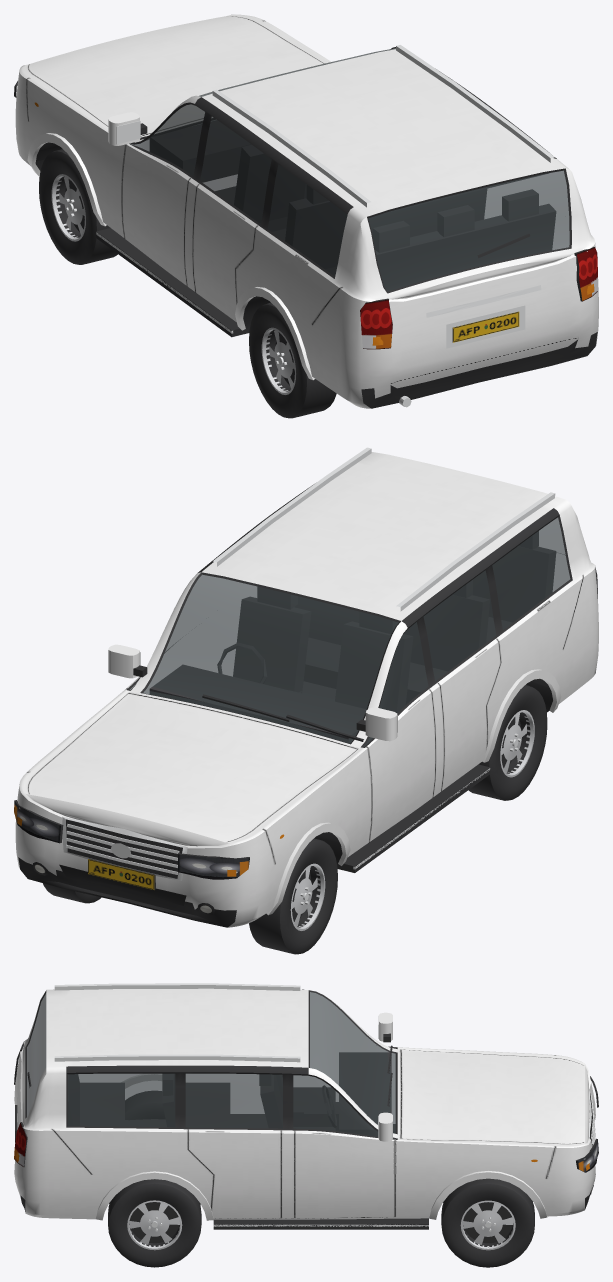
File: suv_landcruiser.glb
3 views of the same model, one above another, from view 1: azimuth 30°, elevation 25°; view 2: azimuth 150°, elevation 25°; view 3: azimuth 270°, elevation 25° (orthographic). The views are drawn at different scales.
Visible parts, largest first — view 1: body, wheel_rl_mesh, wheel_fl_mesh; view 2: body, wheel_fl_mesh, wheel_rl_mesh; view 3: body, wheel_fr_mesh, wheel_rr_mesh, wheel_rl_mesh.
Part boxes in pixels (x1,y1,x2,y2): body: (14,14,598,408); wheel_rl_mesh: (249,303,336,418); wheel_fl_mesh: (39,149,117,264); body: (14,447,598,927); wheel_fl_mesh: (249,838,337,954); wheel_rl_mesh: (468,685,547,800); body: (14,983,598,1229); wheel_fr_mesh: (441,1178,534,1267); wheel_rr_mesh: (108,1179,201,1267); wheel_rl_mesh: (125,1091,165,1119).
Size of the model in its own units: 2.24 by 1.9 by 5.
11 materials, 5 textured.
